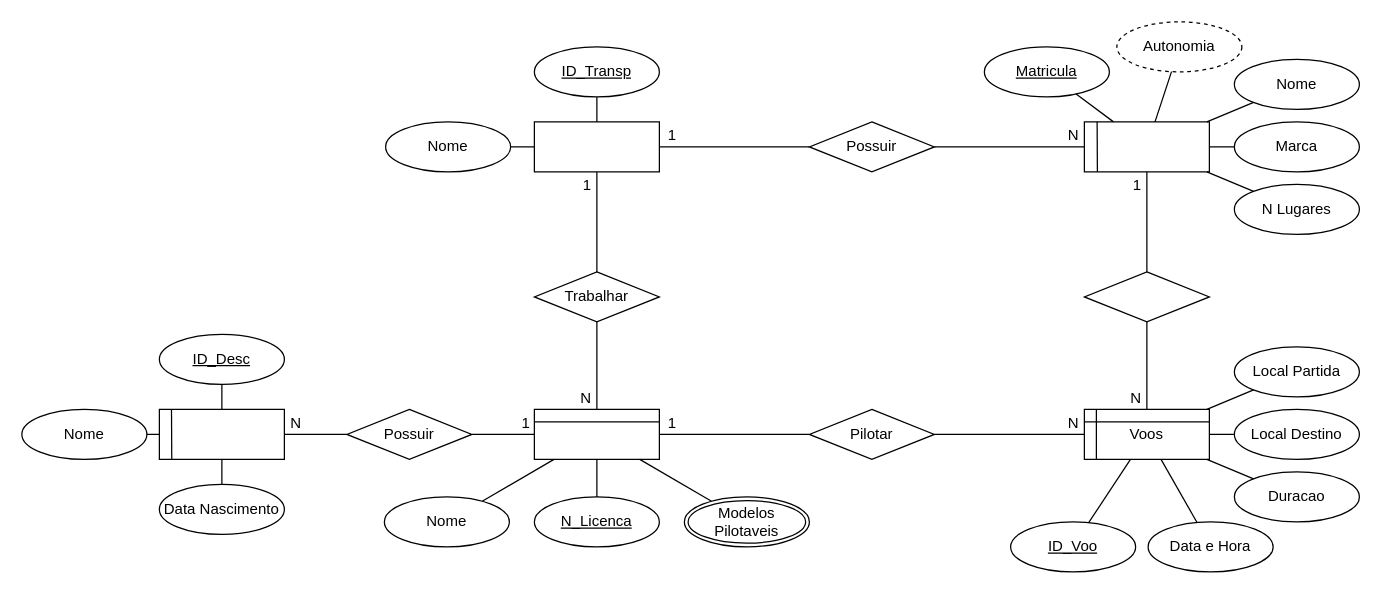
The diagram is 1381 pixels wide and 594 high, and some of its shapes have lost their labels. The shapes that lost their labels are listed below. From the top down, each one's box as (x1, y1, x2, y2) in pixels, then its label:
(533, 121, 659, 172): Trasportadora
(1083, 121, 1209, 172): Aviões
(1083, 271, 1209, 322): Fazer
(158, 408, 284, 459): Descendentes
(533, 408, 659, 459): Pilotos
